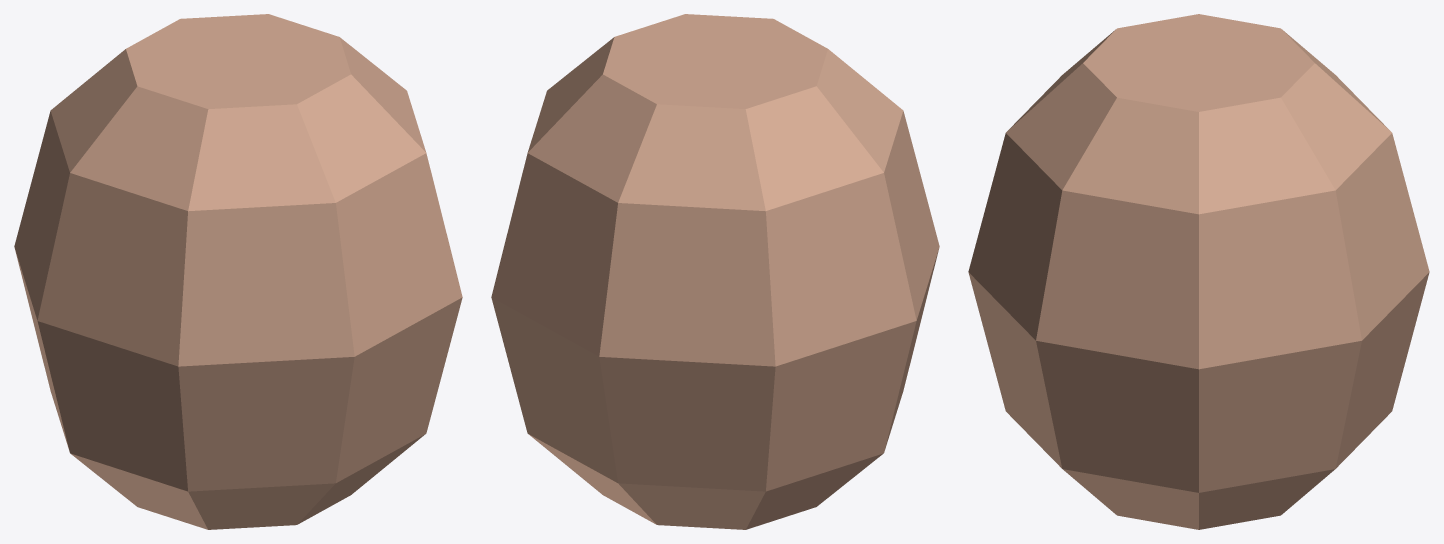
File: coconut.glb
3 views of the same model, side by side, from view 1: azimuth 30°, elevation 25°; view 2: azimuth 150°, elevation 25°; view 3: azimuth 270°, elevation 25° (orthographic).
Visible parts, largest first — view 1: coconut; view 2: coconut; view 3: coconut.
Part boxes in pixels (left/top/right/bottom): coconut: left=14, top=14, right=462, bottom=529; coconut: left=491, top=14, right=939, bottom=529; coconut: left=968, top=14, right=1429, bottom=529.
Bounding box in the file's own units: 0.2484 × 0.2484 × 0.2484.
